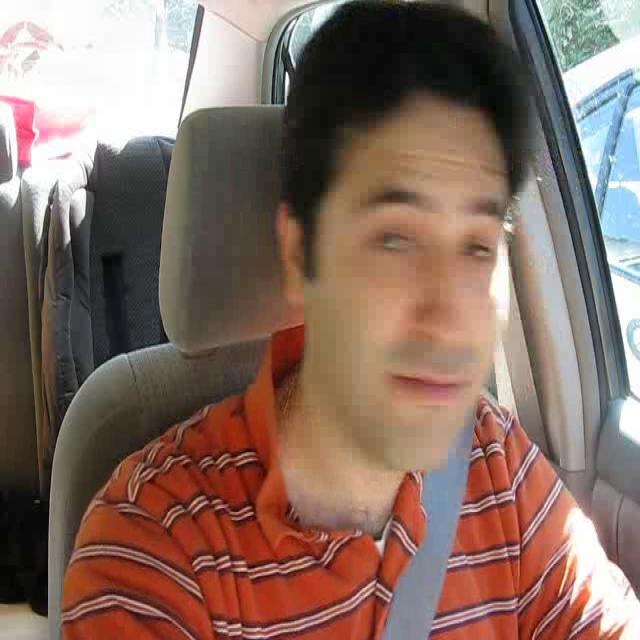close: (391, 368, 473, 408)
